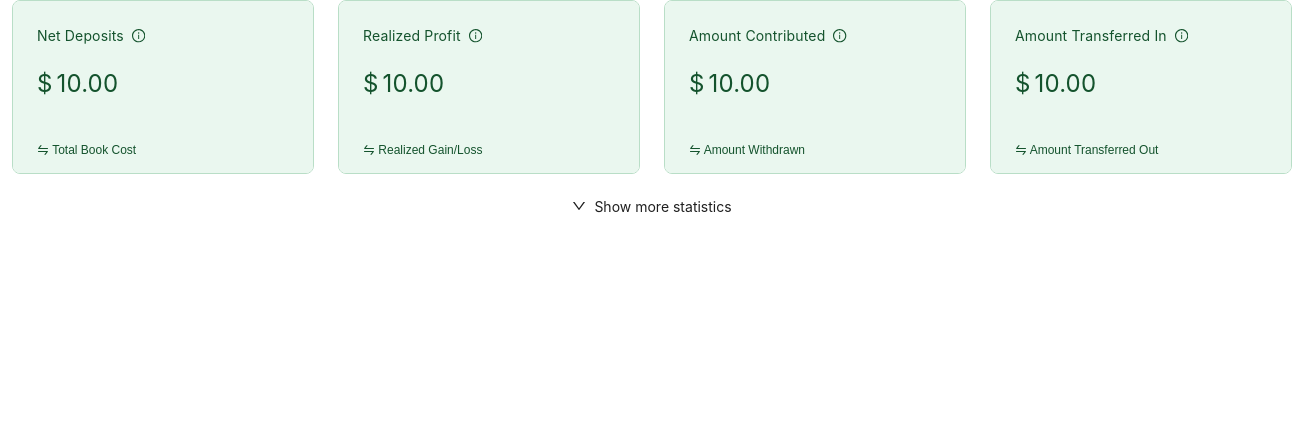
collapsing statistics removes lower-row tooltips and keeps the first row
Click the button "Show more statistics" at (652, 206), box [556,190,748,222]
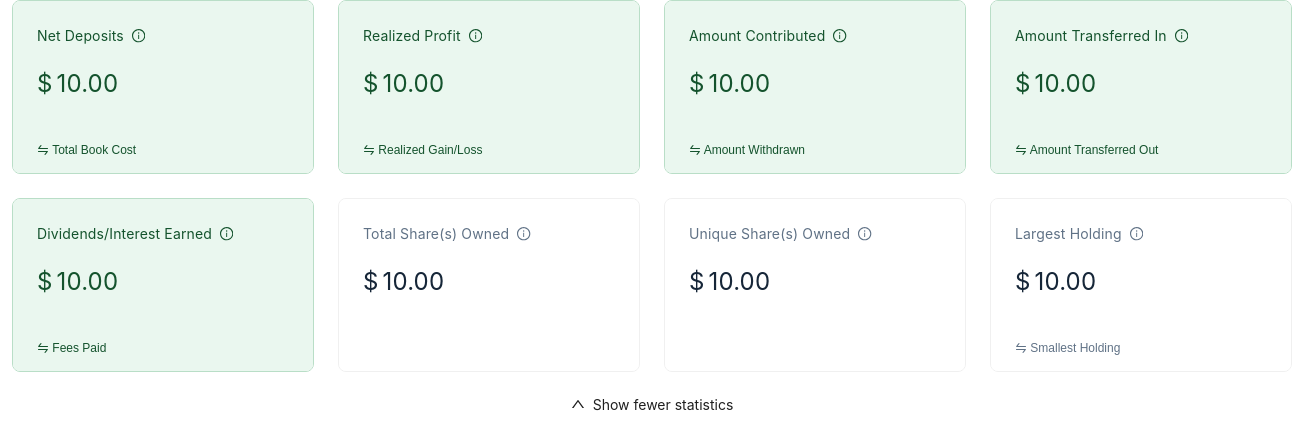
Click the button with aria-label "Show Smallest Holding" at (1075, 348), box [991,325,1291,371]
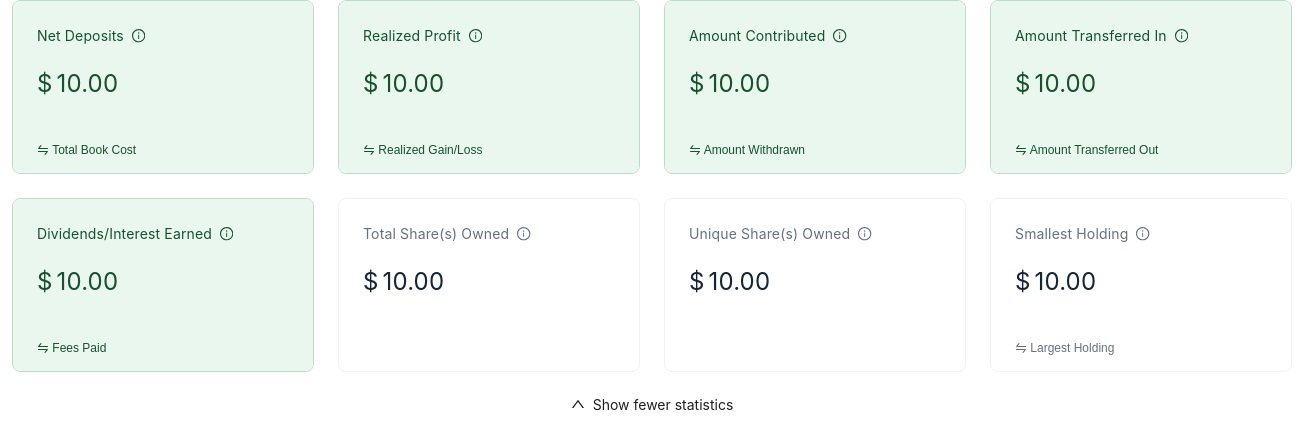
Expected: the button named "About Smallest Holding" is enabled
Focus the button named "About Smallest Holding" at (1143, 234), box [1132,225,1154,244]
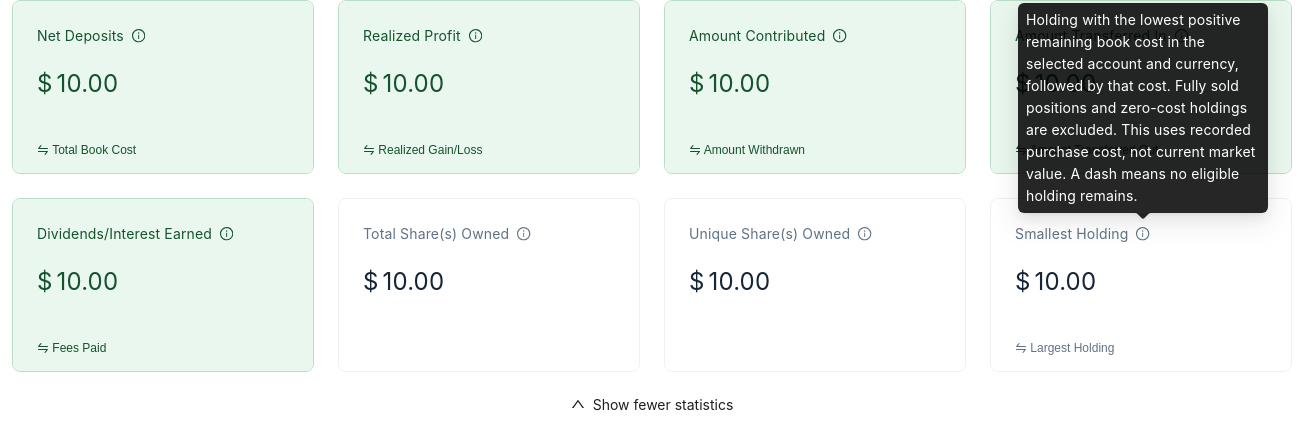
Expected: the tooltip shows "lowest positive remaining book cost", [1026,11,1256,204]
Click the button "Show fewer statistics" at (652, 404), box [555,388,749,420]
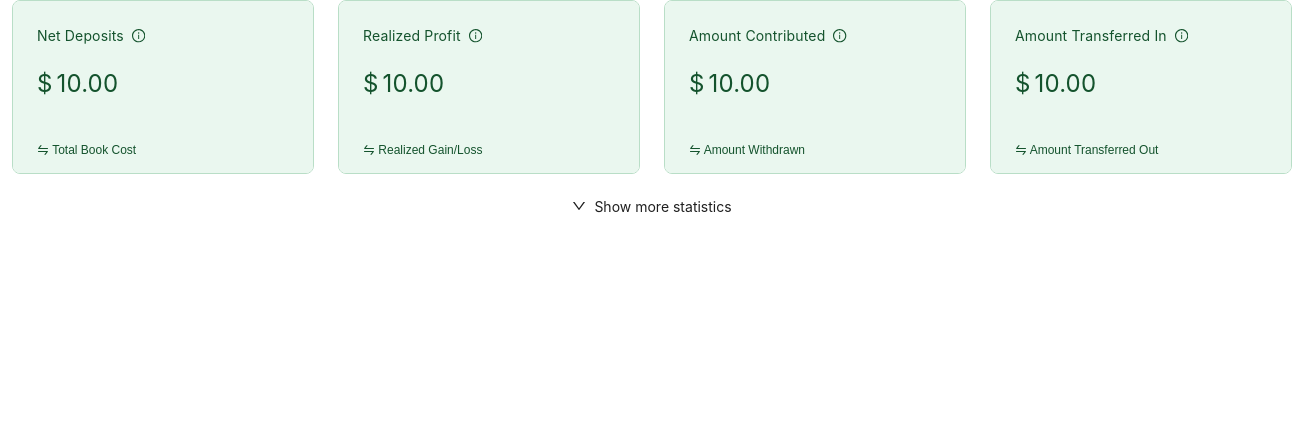
Expected: the tooltip is gone
Expected: the button "Show more statistics" is collapsed, [556,190,748,222]
